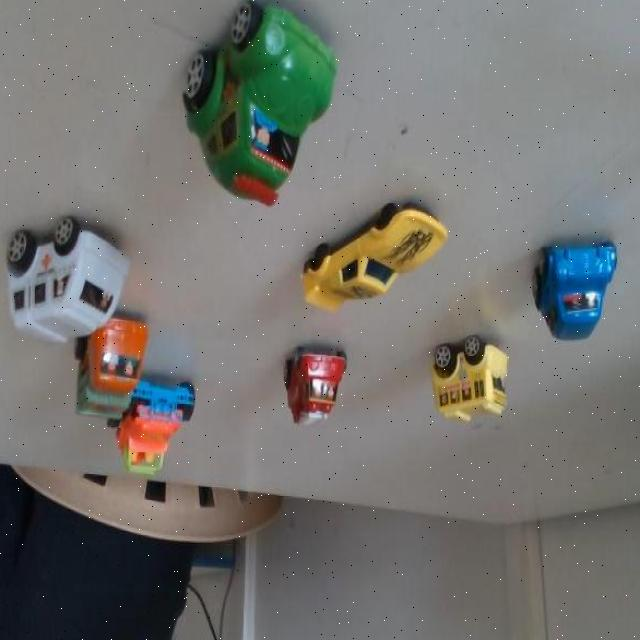car: (173, 0, 349, 207), (4, 193, 143, 363), (306, 194, 442, 320), (421, 321, 511, 426), (538, 236, 620, 344), (120, 378, 203, 484), (272, 328, 348, 438), (78, 311, 145, 428)
